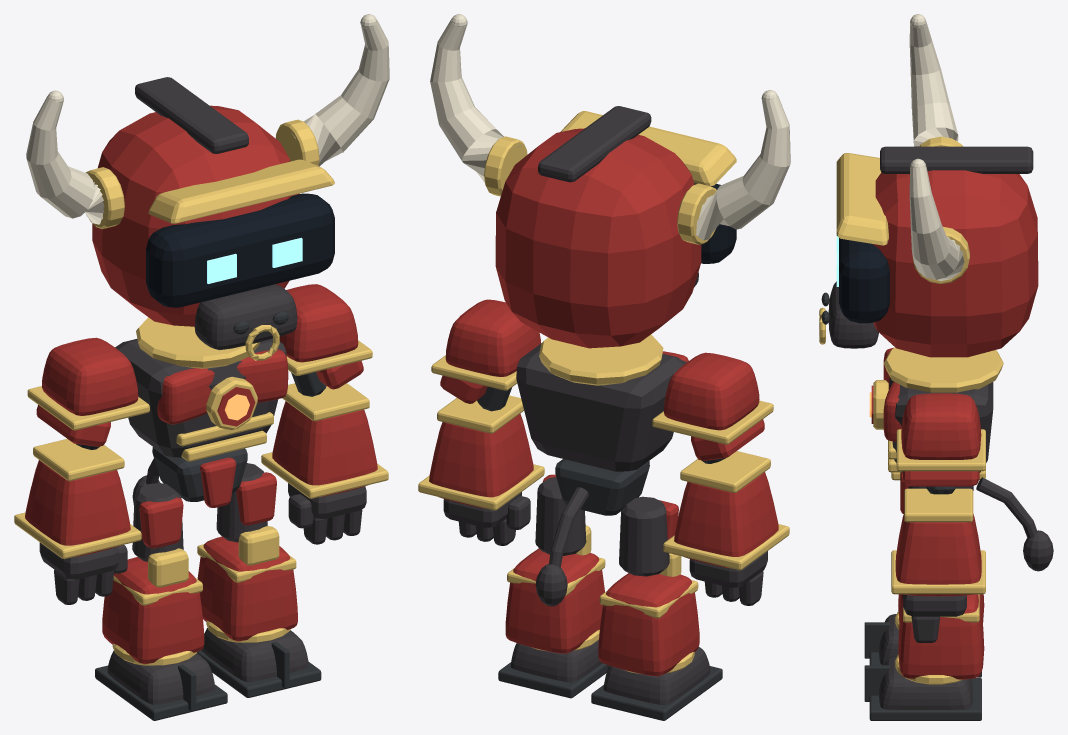
File: touro.glb
3 views of the same model, side by side, from view 1: azimuth 30°, elevation 25°; view 2: azimuth 150°, elevation 25°; view 3: azimuth 270°, elevation 25° (orthographic). The views are drawn at different scales.
Visible parts, largest first — view 1: cabeca_p.001, visor.001, bota.003, bota.002, antebraco.003, antebraco.002, ombro_p.003, testa.001, tronco_p.001, chifre, chifre.001, focinho (+43 smaller); view 2: cabeca_p.001, tronco_p.001, bota.003, bota.002, antebraco.003, antebraco.002, ombro_p.003, chifre.001, chifre, ombro_p.002, gola.001, crista.001 (+24 smaller); view 3: cabeca_p.001, antebraco.002, ombro_p.002, bota.002, testa.001, gola.001, crista.001, chifre.001, visor.001, chifre, casco_pe, faixa_luva.002 (+18 smaller).
Boxes of the visible parts, <box> form: cabeca_p.001: <box>92,105,299,326</box>; visor.001: <box>146,193,334,307</box>; bota.003: <box>102,557,204,664</box>; bota.002: <box>197,536,297,641</box>; antebraco.003: <box>25,460,130,556</box>; antebraco.002: <box>272,401,377,496</box>; ombro_p.003: <box>42,337,138,415</box>; testa.001: <box>148,159,334,223</box>; tronco_p.001: <box>115,338,286,457</box>; chifre: <box>292,20,389,166</box>; chifre.001: <box>26,96,104,224</box>; focinho: <box>194,284,297,350</box>; cabeca_p.001: <box>495,128,701,348</box>; tronco_p.001: <box>516,343,686,471</box>; bota.003: <box>598,573,699,676</box>; bota.002: <box>505,548,604,653</box>; antebraco.003: <box>674,472,778,568</box>; antebraco.002: <box>429,413,533,508</box>; ombro_p.003: <box>664,352,759,430</box>; chifre.001: <box>696,96,790,240</box>; chifre: <box>430,18,520,182</box>; ombro_p.002: <box>445,299,540,376</box>; gola.001: <box>539,334,663,385</box>; crista.001: <box>538,106,651,182</box>; cabeca_p.001: <box>872,170,1038,357</box>; antebraco.002: <box>895,513,981,596</box>; ombro_p.002: <box>901,393,981,459</box>; bota.002: <box>898,594,984,679</box>; testa.001: <box>836,153,888,245</box>; gola.001: <box>884,347,1003,392</box>; crista.001: <box>880,146,1033,173</box>; chifre.001: <box>909,22,958,146</box>; visor.001: <box>839,238,889,323</box>; chifre: <box>909,166,964,281</box>; casco_pe: <box>879,657,972,709</box>; faixa_luva.002: <box>904,488,973,522</box>.
Bounding box in the file's own units: 0.767 × 1.29 × 0.4585.
